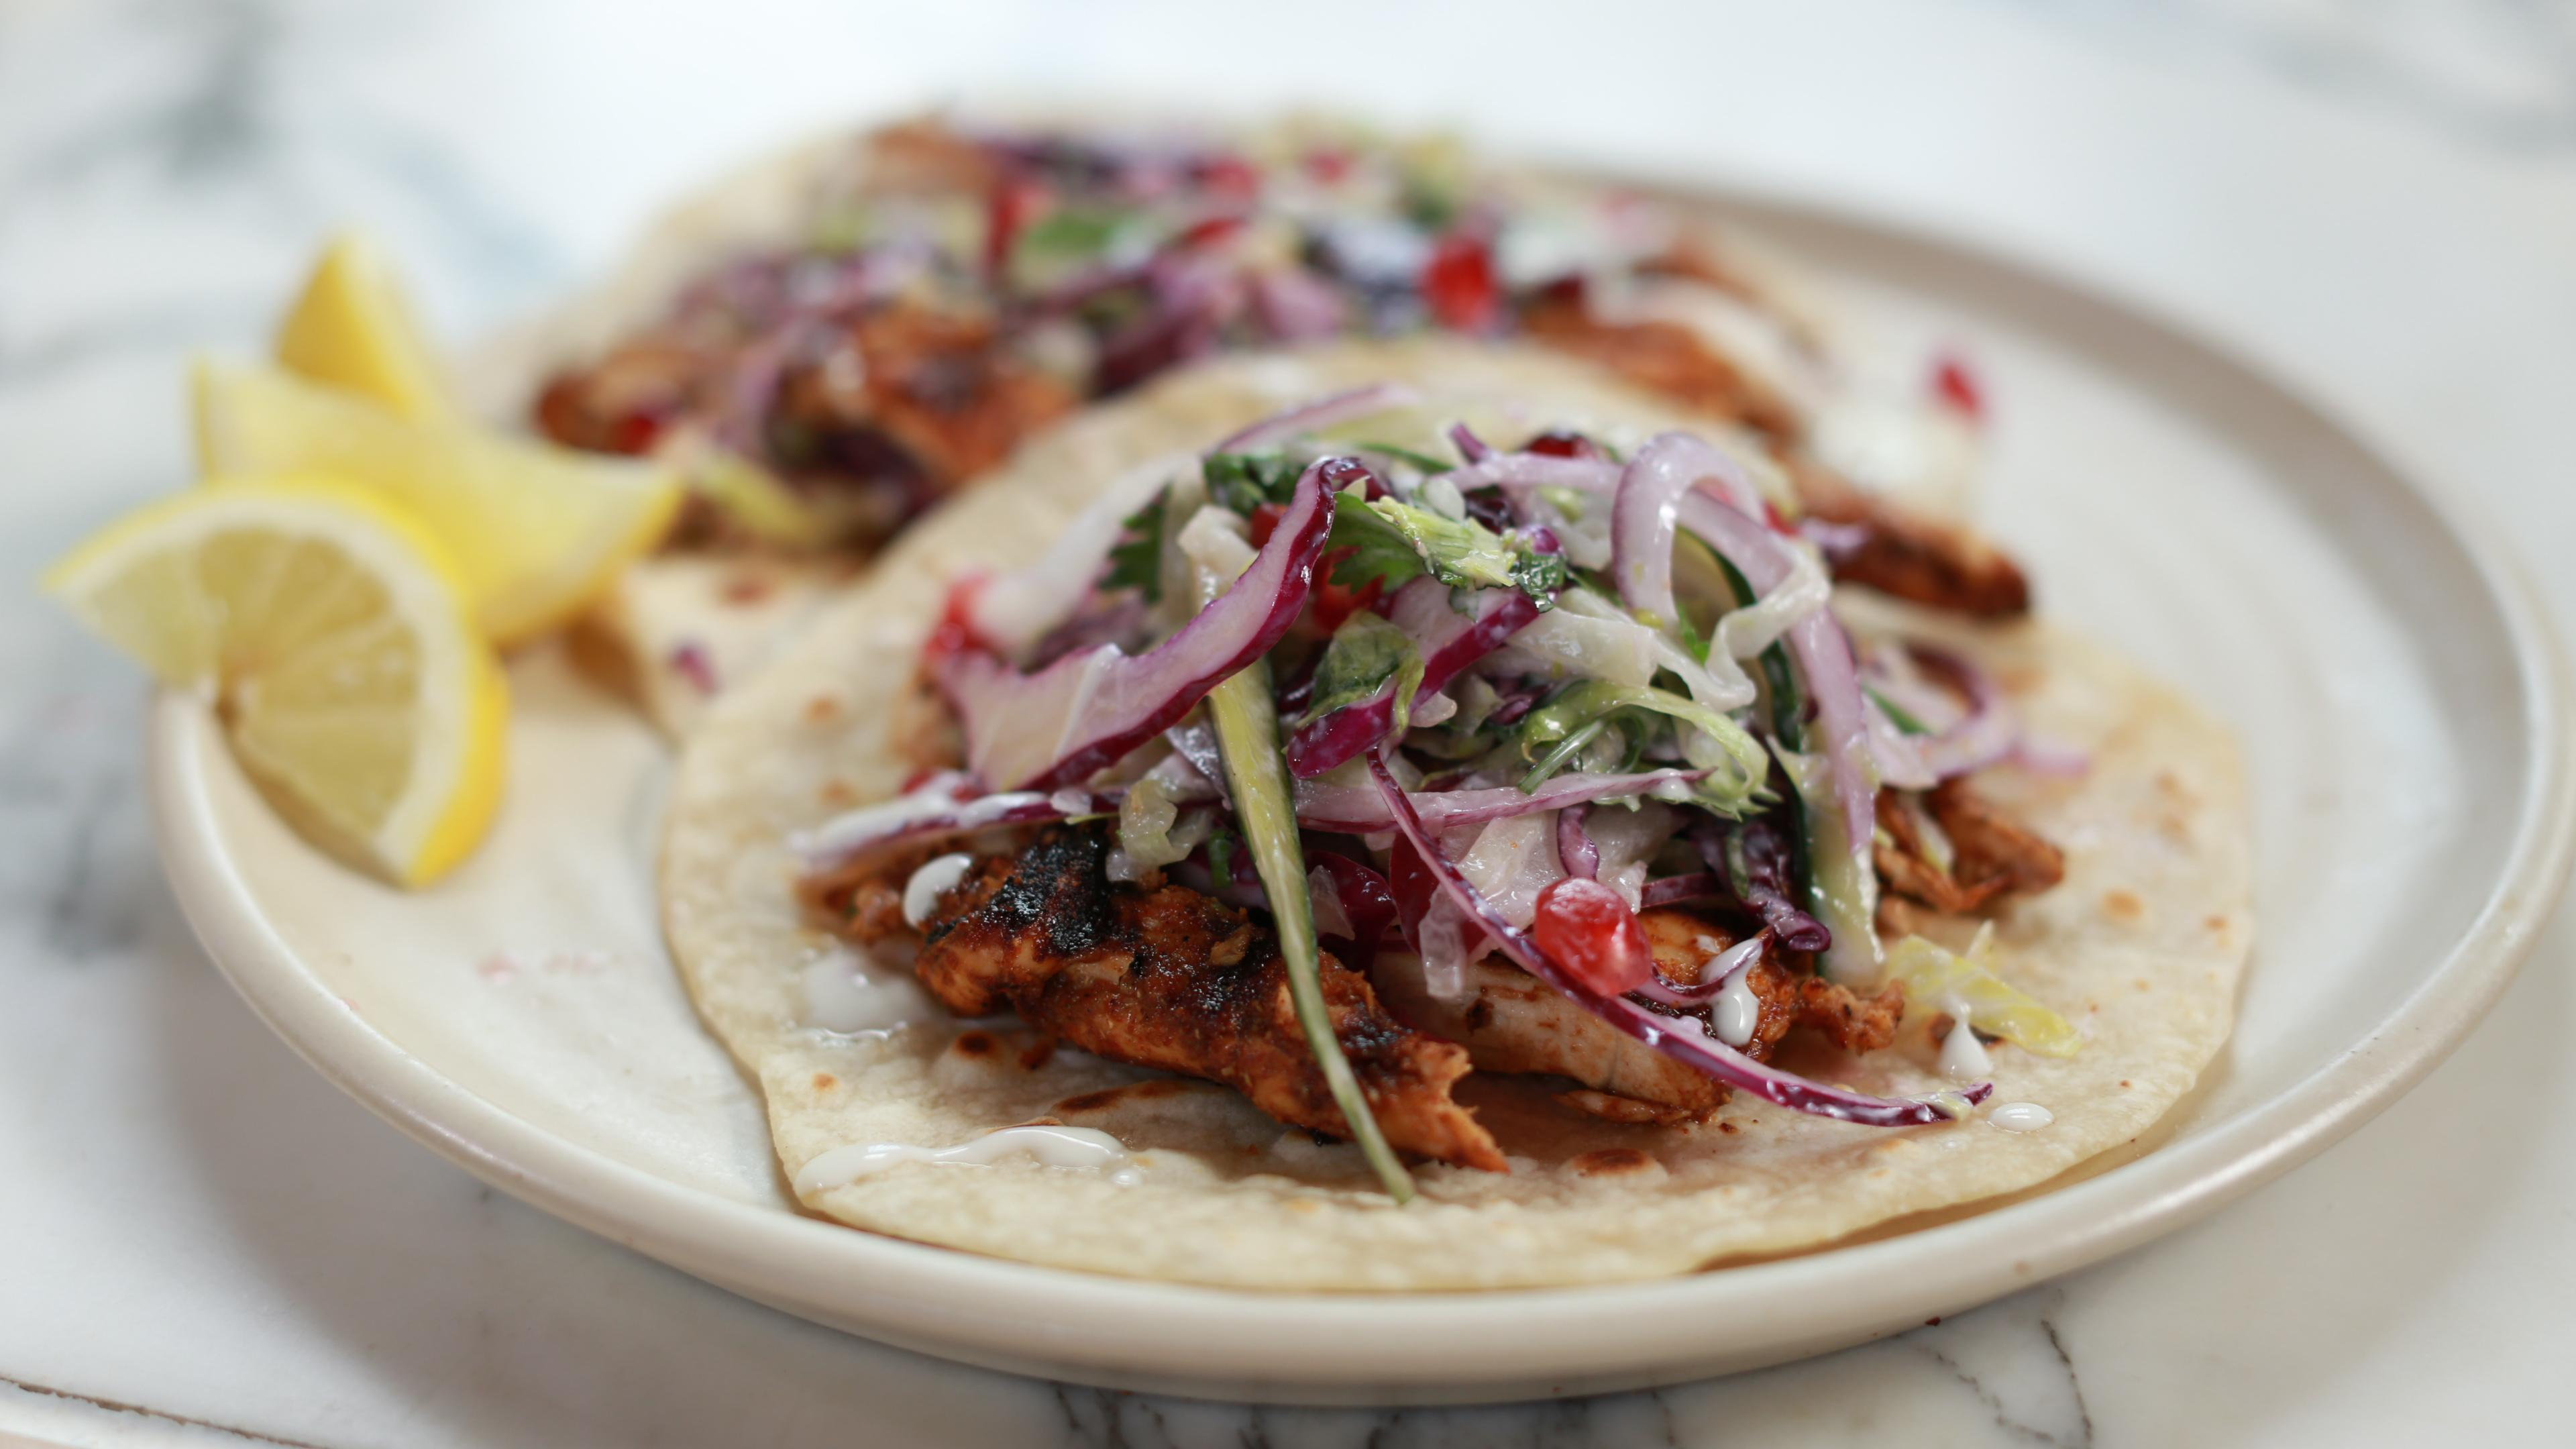chapati: (660, 136, 2254, 1288), (901, 1157, 911, 1162)
